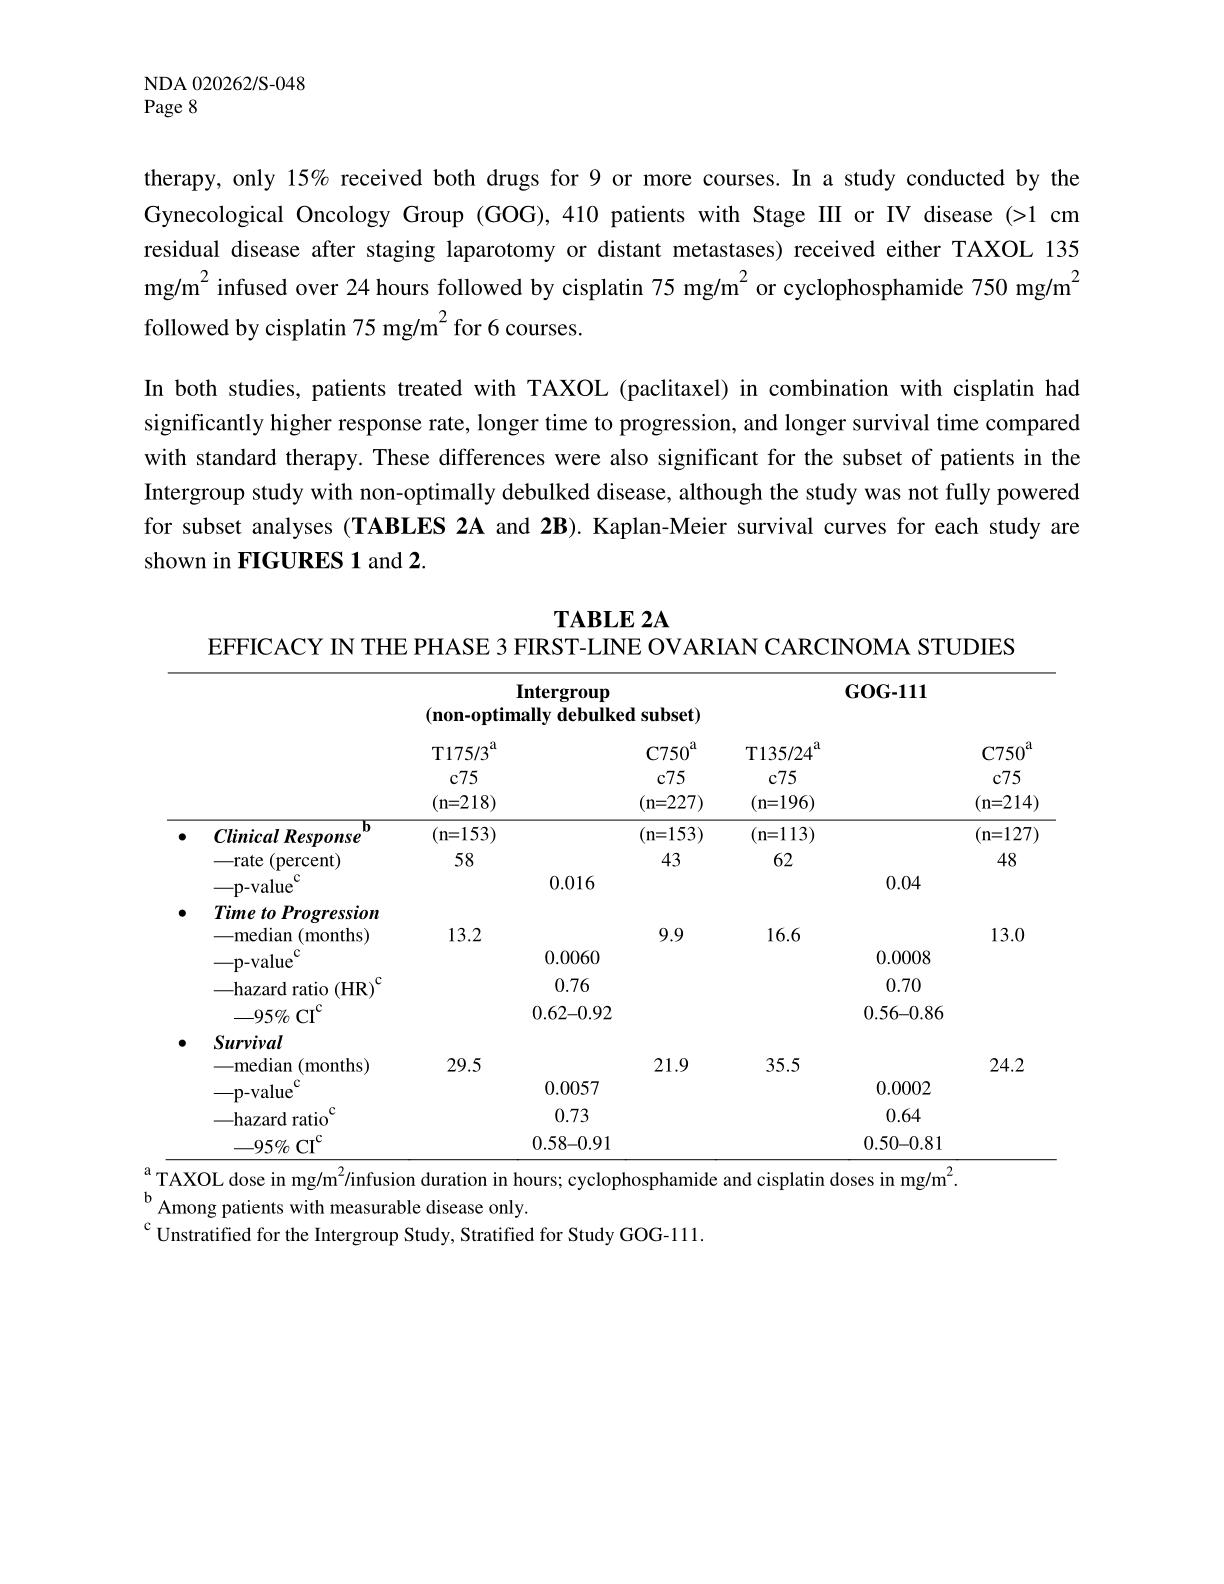partial_lined_merged_cells: (167, 670, 1057, 1164)
